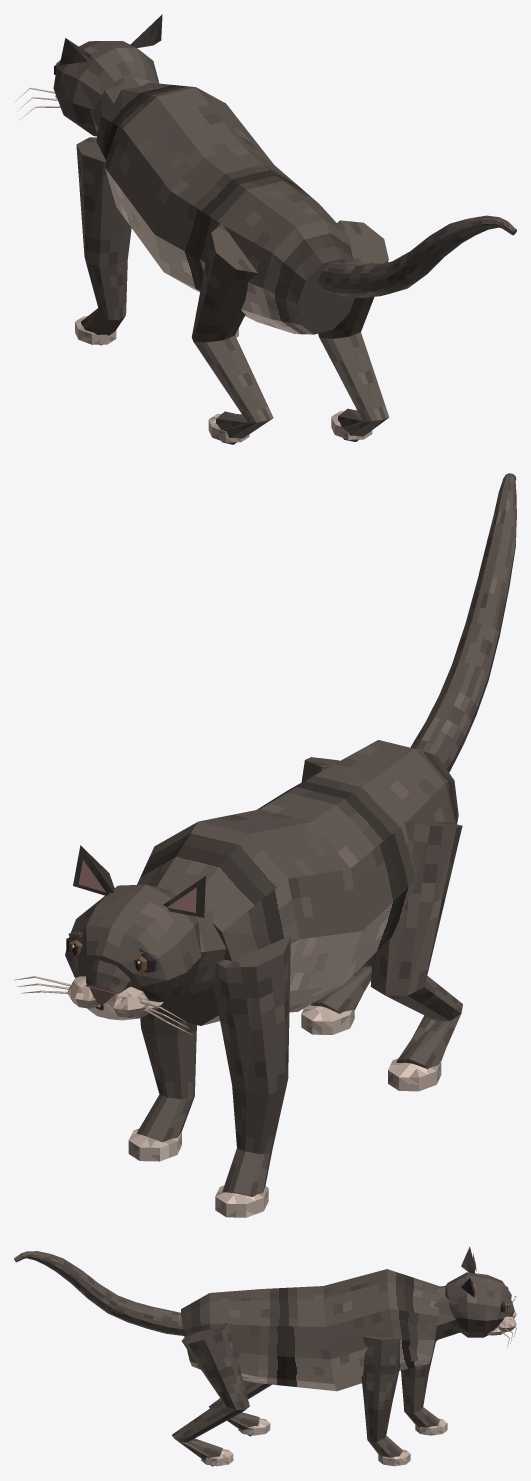
Rendered from mon_cat_isherwood.glb.
The picture shows the model from 3 angles, top to bottom: view 1: azimuth 30°, elevation 25°; view 2: azimuth 150°, elevation 25°; view 3: azimuth 270°, elevation 25°; orthographic projection. The views are drawn at different scales.
Parts seen in each view (by area): view 1: closed_body; view 2: closed_body; view 3: closed_body.
Boxes of the visible parts, left/top/right/bottom form: closed_body: left=14, top=14, right=516, bottom=444; closed_body: left=14, top=473, right=516, bottom=1217; closed_body: left=14, top=1246, right=516, bottom=1466.
Size of the model in its own units: 0.1764 by 0.3915 by 0.827.
Materials: 1 (1 with a texture image).
